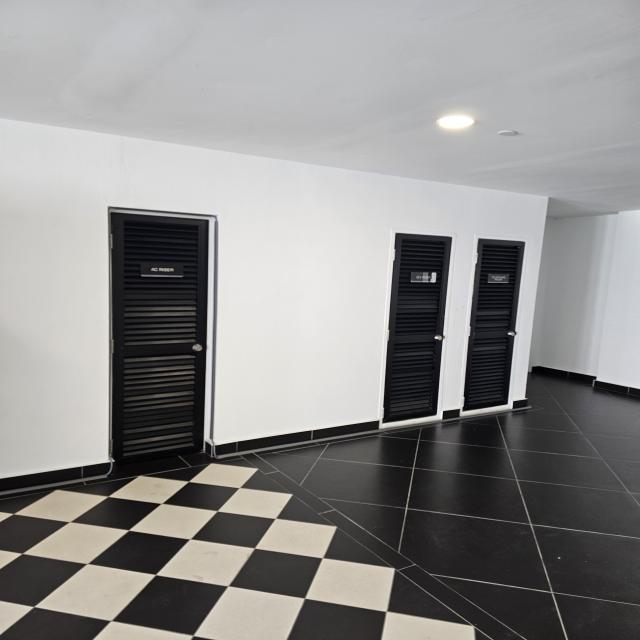door: (107, 207, 216, 464), (380, 230, 454, 427), (467, 234, 523, 416)
footpath: (9, 453, 640, 640)
